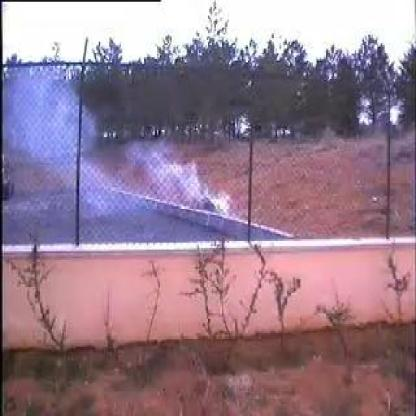-: (40, 70, 230, 223)
